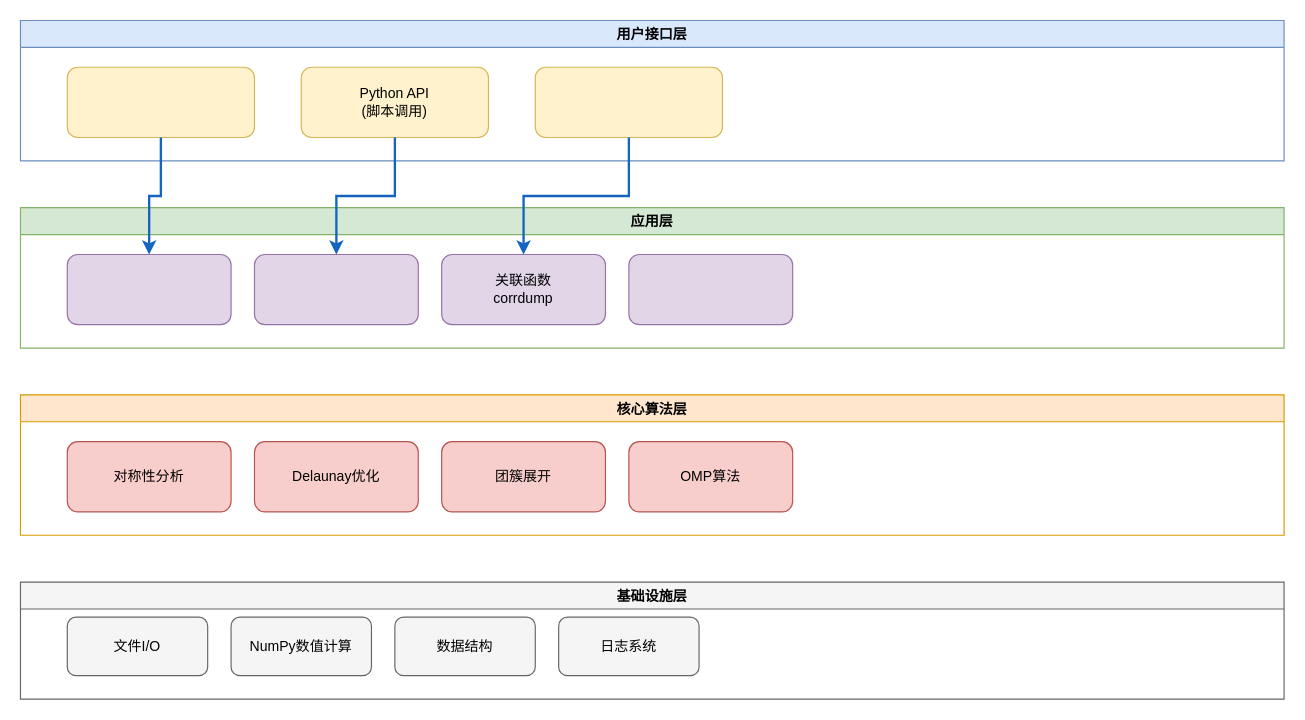
The diagram is 1305 pixels wide and 720 high, and some of its shapes have lost their labels. The shapes that lost their labels are listed below. From the top down, each one's centre as x and y in pixels, then its label:
the point at 160,101: 命令行界面 (CLI)
the point at 628,101: MCP接口 (AI集成)
the point at 148,289: 超胞构建 supercell
the point at 335,289: 构型生成 disorder
the point at 710,289: SSOS搜索 nnomp
